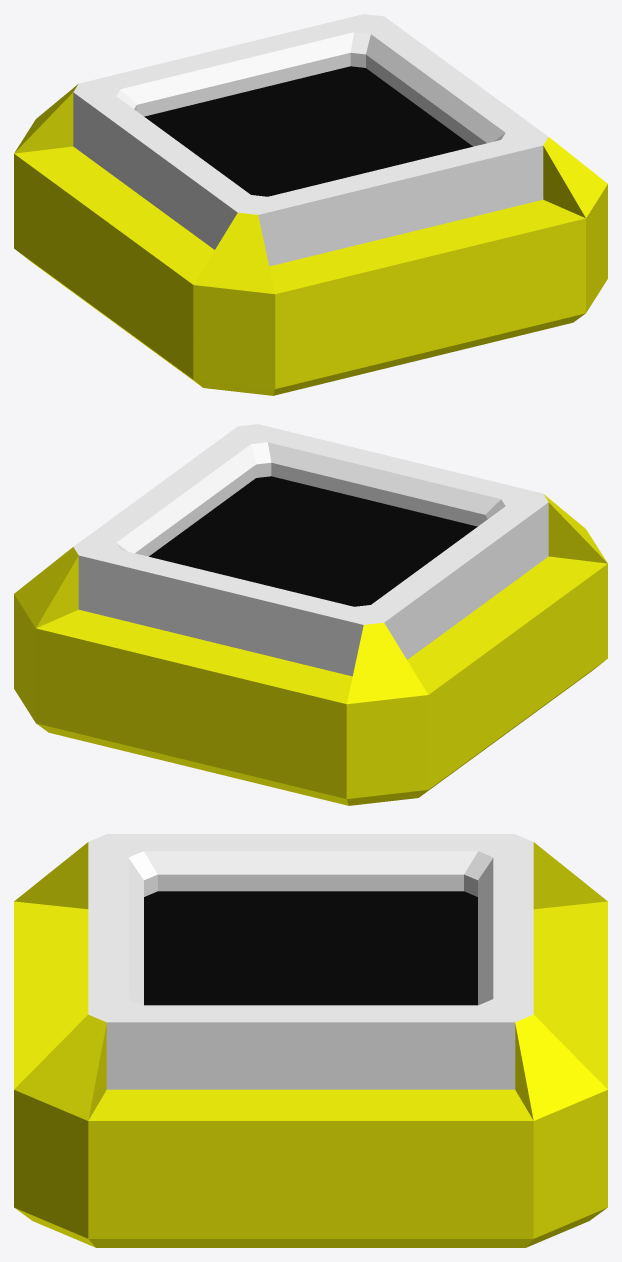
The model's file is Tile.fbx.
The picture shows the model from 3 angles, top to bottom: view 1: azimuth 30°, elevation 25°; view 2: azimuth 150°, elevation 25°; view 3: azimuth 270°, elevation 25°; orthographic projection. The views are drawn at different scales.
Parts seen in each view (by area): view 1: Cube.012; view 2: Cube.012; view 3: Cube.012.
Part boxes in pixels (<box>): Cube.012: <box>14,14,607,395</box>; Cube.012: <box>14,424,607,805</box>; Cube.012: <box>14,834,607,1247</box>.
Bounding box in the file's own units: 200 × 75 × 200.
